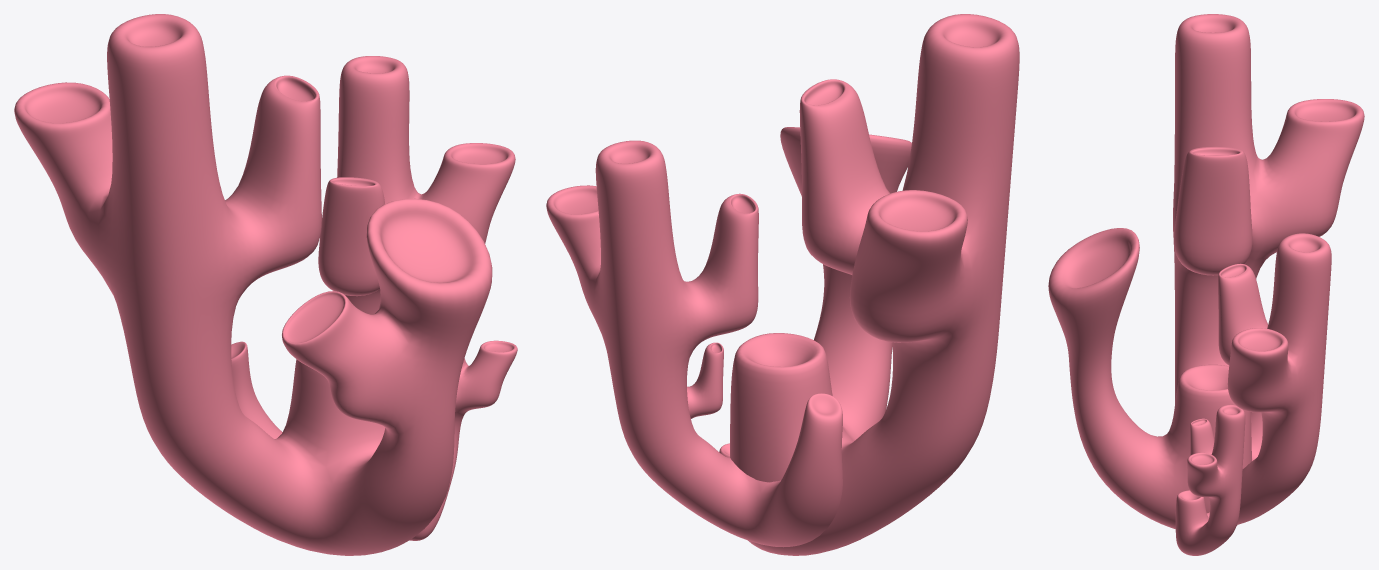
Rendered from CoralRosafbx.fbx.
3 renders of one model, left to right at view 1: azimuth 30°, elevation 25°; view 2: azimuth 150°, elevation 25°; view 3: azimuth 270°, elevation 25°, orthographic. The views are drawn at different scales.
Visible parts, largest first — view 1: Cube; view 2: Cube; view 3: Cube.
Boxes of the visible parts, x1,y1,x2,y2 form: Cube: (14, 14, 517, 555); Cube: (546, 14, 1019, 555); Cube: (1048, 14, 1364, 555).
Bounding box in the file's own units: 969 × 1161 × 761.
